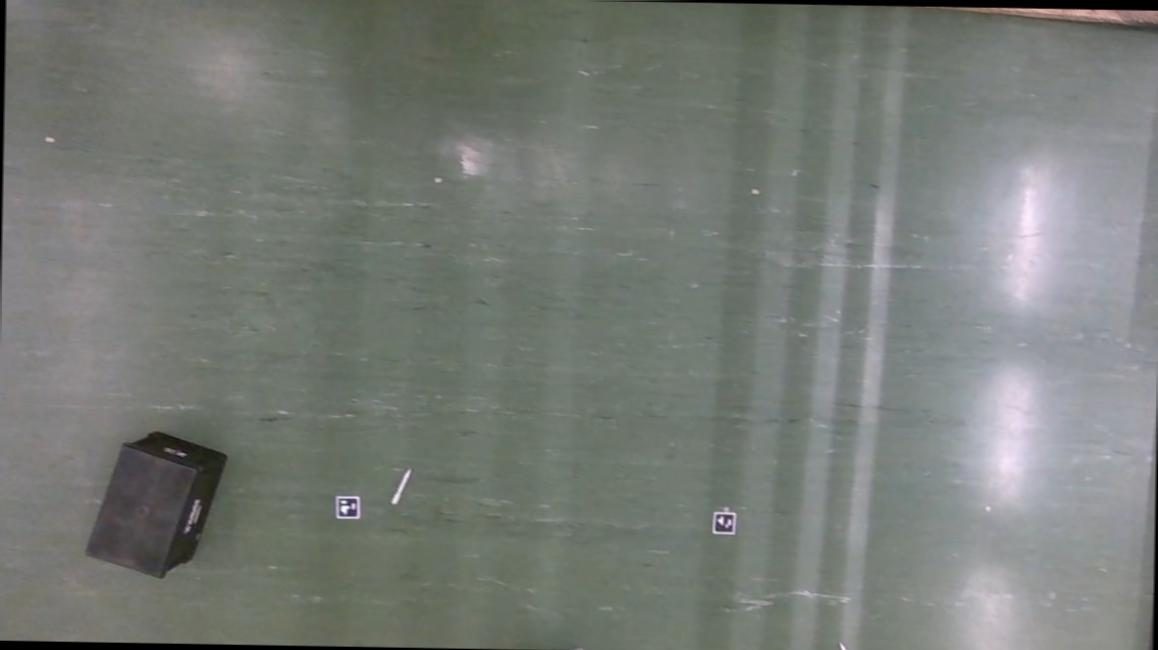probes: (393, 466, 411, 502), (841, 643, 856, 650)
rako: (83, 427, 227, 578)
